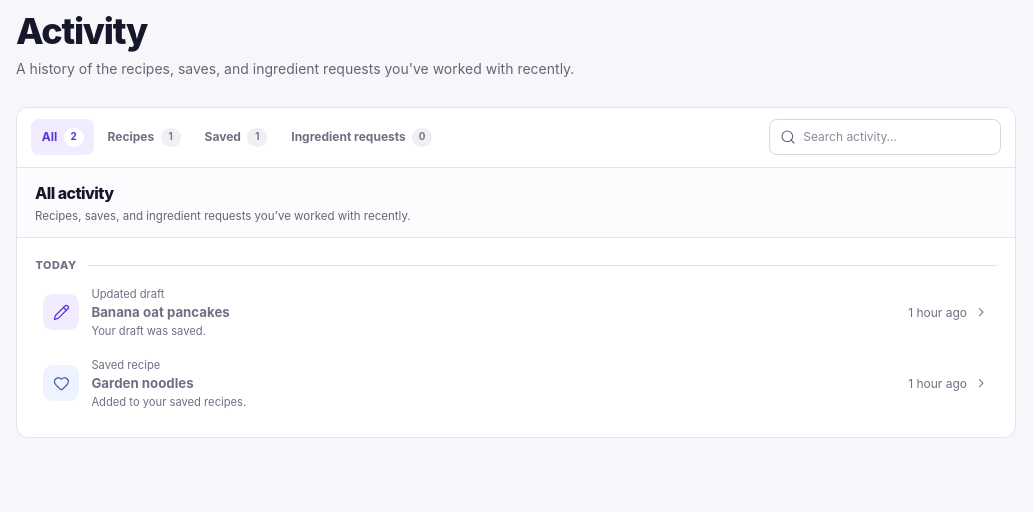
Test: MemberActivityTimeline › sends search text to the bounded endpoint and clears an empty result
Expected: the text "Banana oat pancakes" is shown, [91, 304, 230, 320]
Type "missing" into the search field labelled "Search activity".
click(896, 137); type("missing")  # box [803, 128, 989, 146]
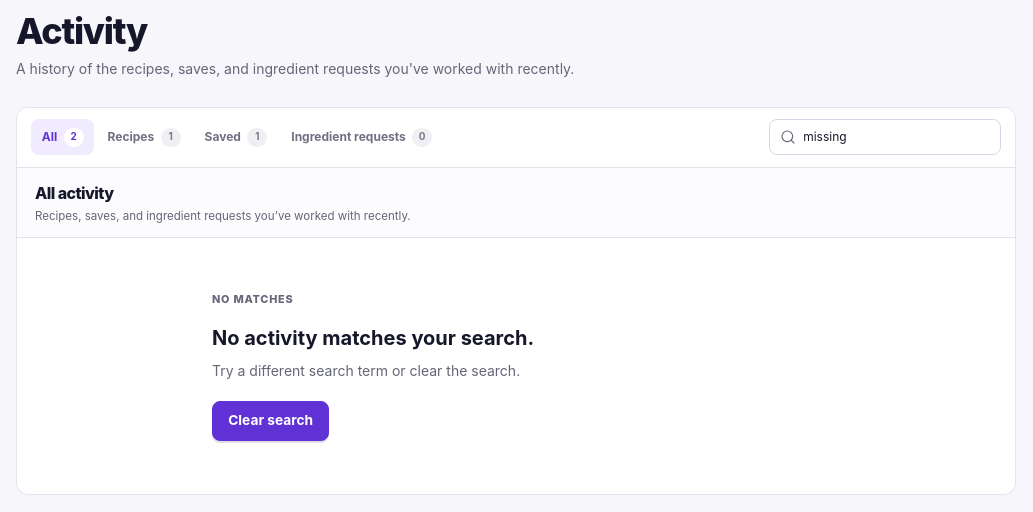
Now the heading "No activity matches your search." is shown, box [212, 326, 534, 350]
Click the button "Clear search".
click(271, 421)  # box [212, 401, 329, 441]
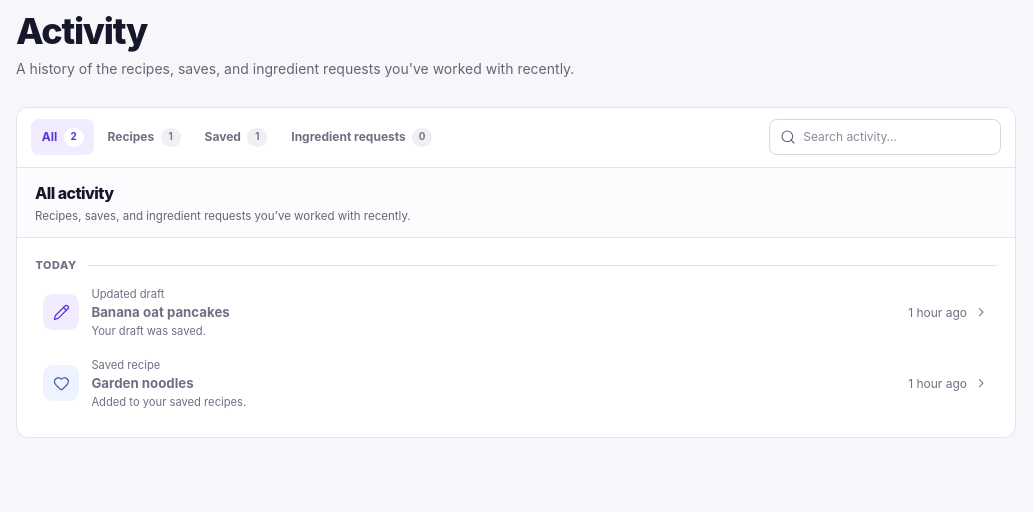
Now the text "Banana oat pancakes" is shown, box [91, 304, 230, 320]
